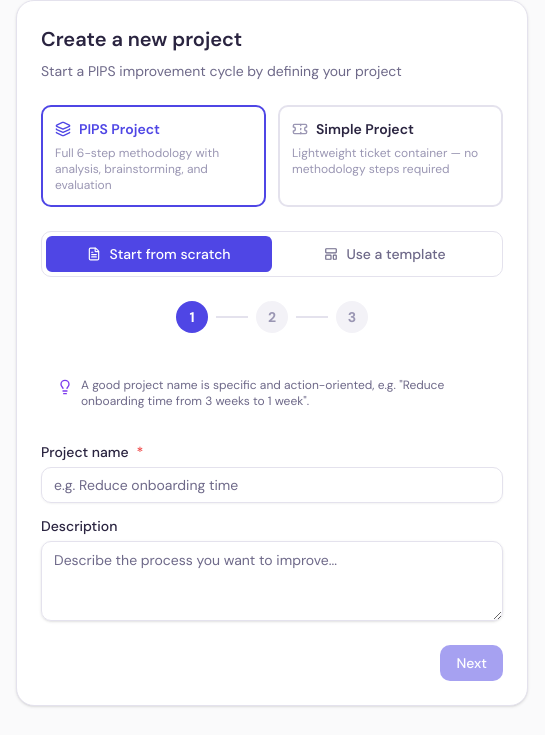
Test: ProjectForm › shows template cards in template mode
The width and height of the screenshot is (545, 735).
Click the button with test id "mode-template" at coordinates (385, 254), box top-left (272, 236), bottom-right (498, 272)
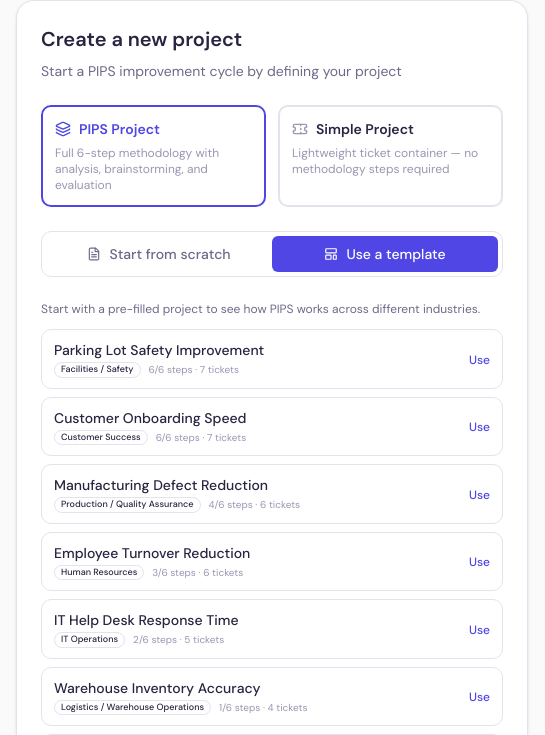
Check: the button with test id "template-parking-lot-safety" is shown, box top-left (41, 329), bottom-right (503, 388)
